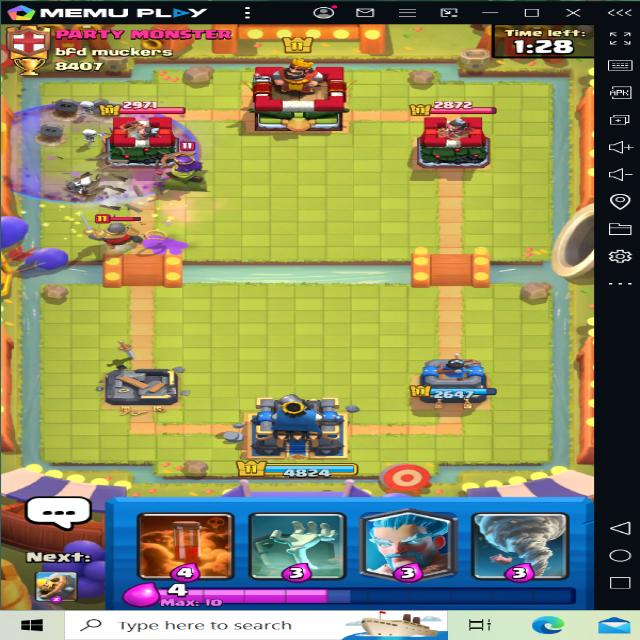archer-queen: (144, 142, 220, 195)
knight: (82, 210, 157, 252)
